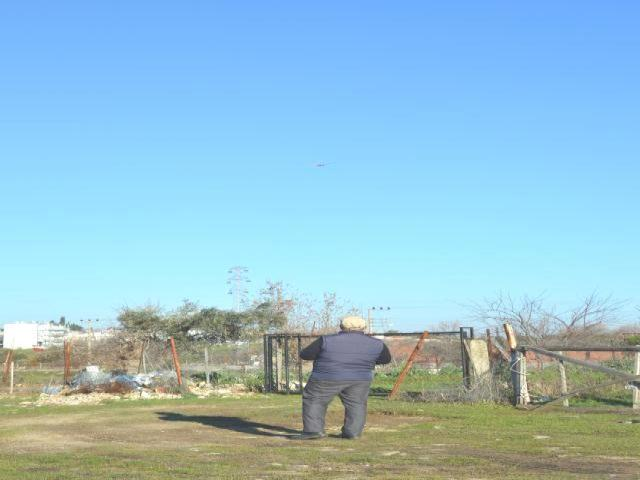iha: (301, 162, 337, 167)
